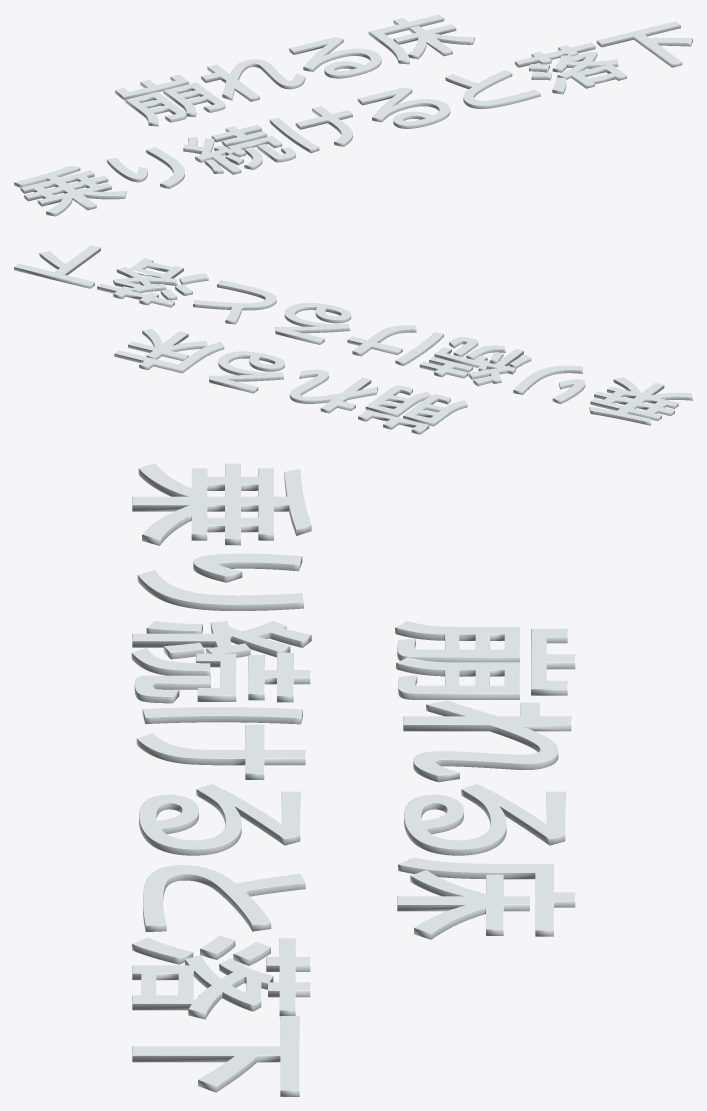
File: stage1_falling_floor.obj
3 views of the same model, one above another, from view 1: azimuth 30°, elevation 25°; view 2: azimuth 150°, elevation 25°; view 3: azimuth 270°, elevation 25° (orthographic). The views are drawn at different scales.
Visible parts, largest first — view 1: stage1_falling_floor; view 2: stage1_falling_floor; view 3: stage1_falling_floor.
Boxes of the visible parts, bbox=[...] form: stage1_falling_floor: bbox=[14, 14, 692, 216]; stage1_falling_floor: bbox=[14, 245, 692, 434]; stage1_falling_floor: bbox=[131, 463, 575, 1096].
Size of the model in its own units: 3.35 by 0.0164 by 1.
1 material, 1 textured.
